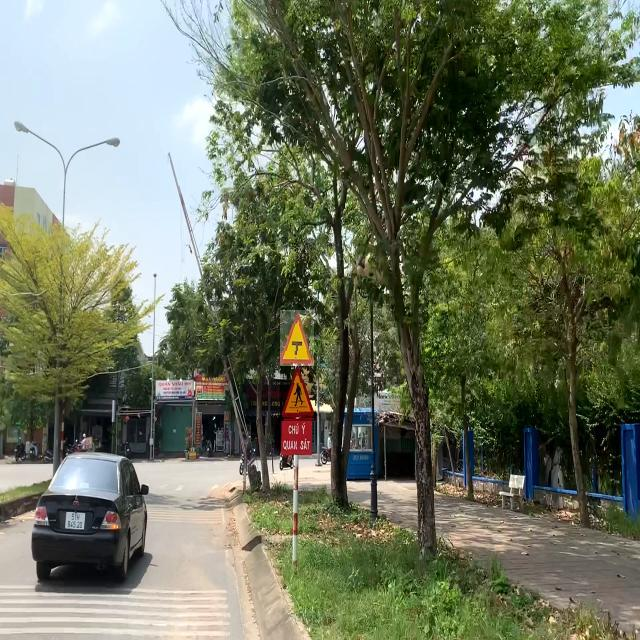W-205d: (281, 310, 315, 366)
W-224: (280, 366, 316, 421)
